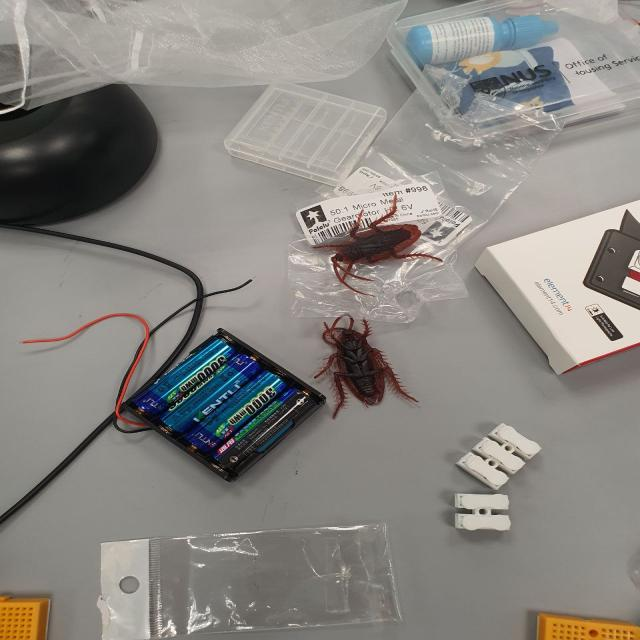Cockroach: (314, 193, 441, 291), (302, 314, 420, 418)
